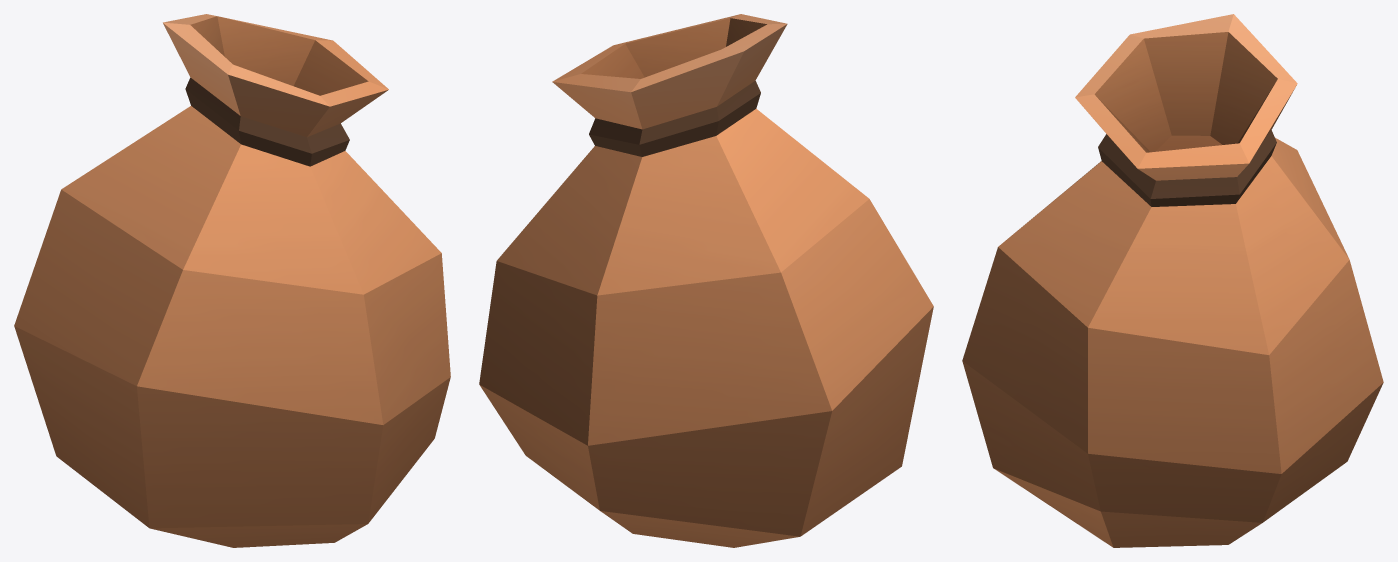
The model's file is Bag.fbx.
3 views of the same model, side by side, from view 1: azimuth 30°, elevation 25°; view 2: azimuth 150°, elevation 25°; view 3: azimuth 270°, elevation 25° (orthographic). The views are drawn at different scales.
Parts seen in each view (by area): view 1: Bag; view 2: Bag; view 3: Bag.
Part boxes in pixels (x1,y1,x2,y2): Bag: [14, 14, 450, 547]; Bag: [479, 14, 933, 547]; Bag: [962, 14, 1383, 547].
Bounding box in the file's own units: 202 × 218 × 267.
